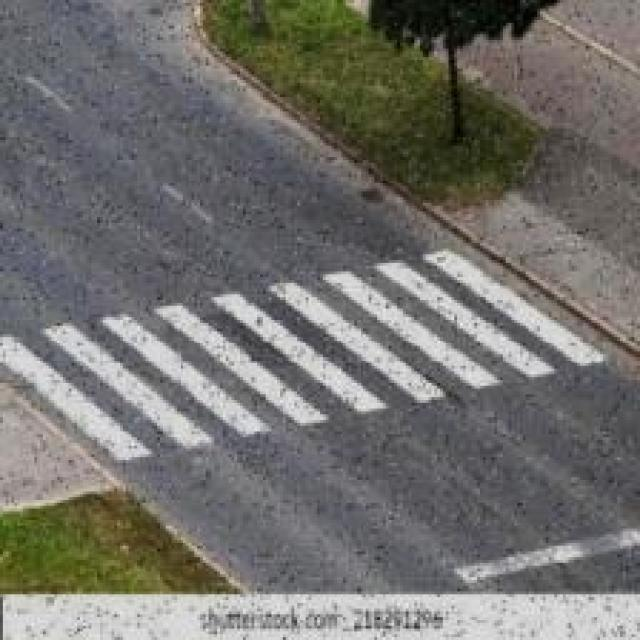walk-crossing: (0, 255, 599, 464)
